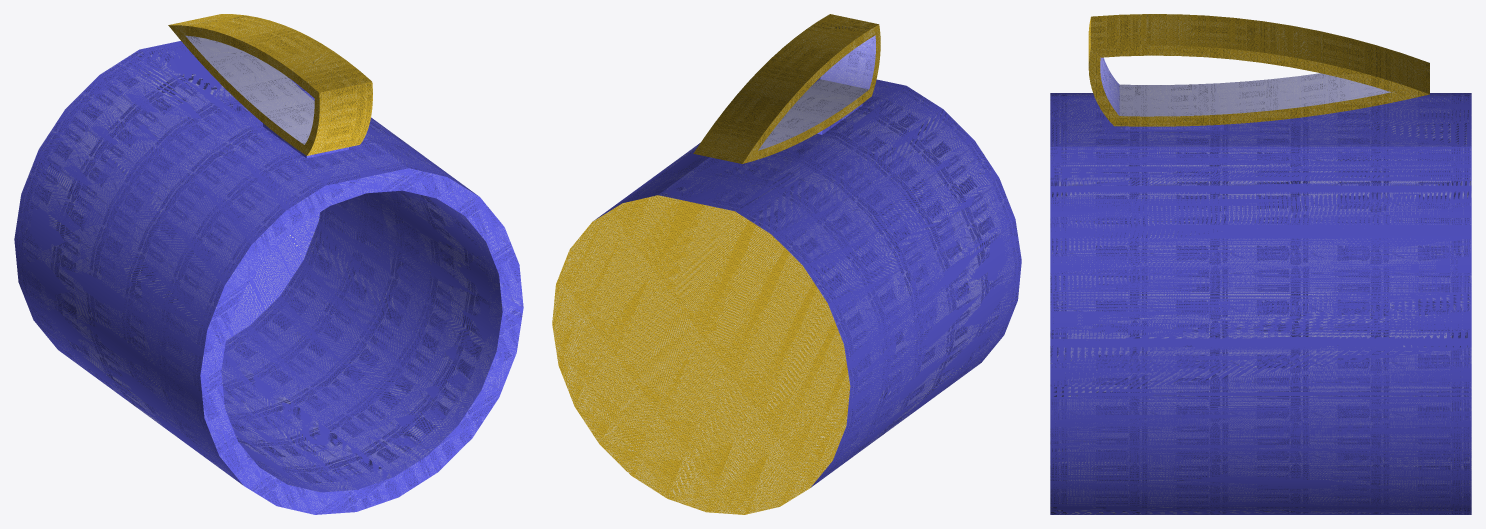
File: model_align.obj
3 renders of one model, left to right at view 1: azimuth 30°, elevation 25°; view 2: azimuth 150°, elevation 25°; view 3: azimuth 270°, elevation 25°, orthographic. The views are drawn at different scales.
Parts seen in each view (by area): view 1: mesh1_mesh1-geometry, mesh2_mesh2-geometry; view 2: mesh1_mesh1-geometry, mesh2_mesh2-geometry; view 3: mesh1_mesh1-geometry, mesh2_mesh2-geometry.
Part boxes in pixels (x1,y1,x2,y2): mesh1_mesh1-geometry: (14,41,523,514); mesh2_mesh2-geometry: (168,14,372,155); mesh1_mesh1-geometry: (552,77,1021,514); mesh2_mesh2-geometry: (693,14,880,163); mesh1_mesh1-geometry: (1050,93,1471,514); mesh2_mesh2-geometry: (1088,14,1429,126).
Size of the model in its own units: 0.0945 by 0.1154 by 0.0942.
